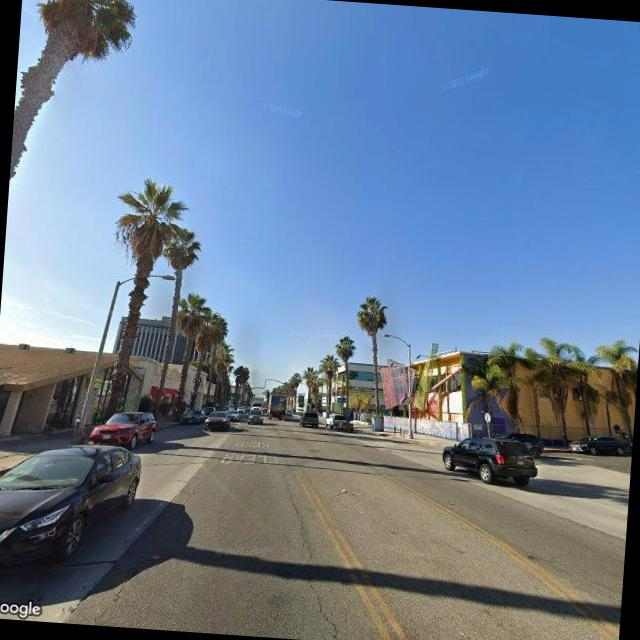crack: (270, 466, 318, 561), (305, 583, 350, 640)
